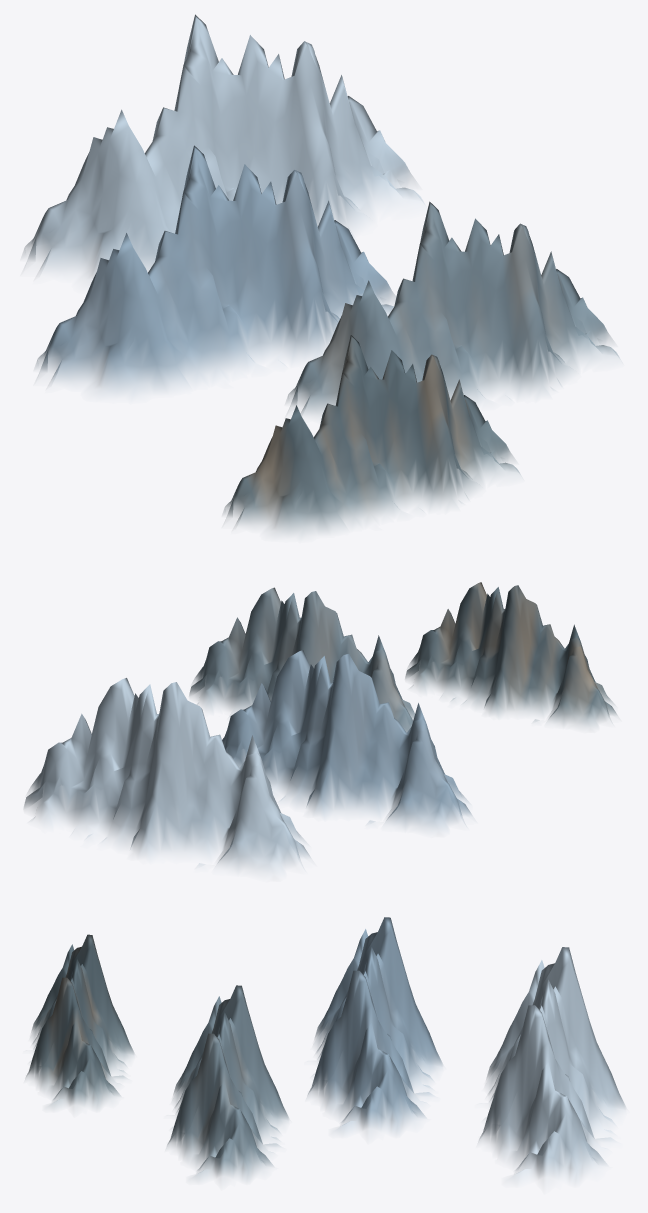
3 renders of one model, top to bottom at view 1: azimuth 30°, elevation 25°; view 2: azimuth 150°, elevation 25°; view 3: azimuth 270°, elevation 25°, orthographic. The views are drawn at different scales.
Parts seen in each view (by area): view 1: Far_blue_ridge, Remote_mist_ridge, Mid_neutral_ridge, Near_ochre_ridge; view 2: Remote_mist_ridge, Far_blue_ridge, Near_ochre_ridge, Mid_neutral_ridge; view 3: Remote_mist_ridge, Far_blue_ridge, Mid_neutral_ridge, Near_ochre_ridge.
Part boxes in pixels (<box>): Far_blue_ridge: <box>35,145,395,396</box>; Remote_mist_ridge: <box>22,14,426,283</box>; Mid_neutral_ridge: <box>286,201,621,417</box>; Near_ochre_ridge: <box>223,335,521,537</box>; Remote_mist_ridge: <box>24,678,311,874</box>; Far_blue_ridge: <box>222,650,472,830</box>; Near_ochre_ridge: <box>405,582,617,727</box>; Mid_neutral_ridge: <box>189,587,414,732</box>; Remote_mist_ridge: <box>478,947,626,1182</box>; Far_blue_ridge: <box>307,917,442,1133</box>; Mid_neutral_ridge: <box>167,985,289,1180</box>; Near_ochre_ridge: <box>25,934,134,1109</box>.
Bounding box in the file's own units: 14.09 × 5.88 × 19.36.
